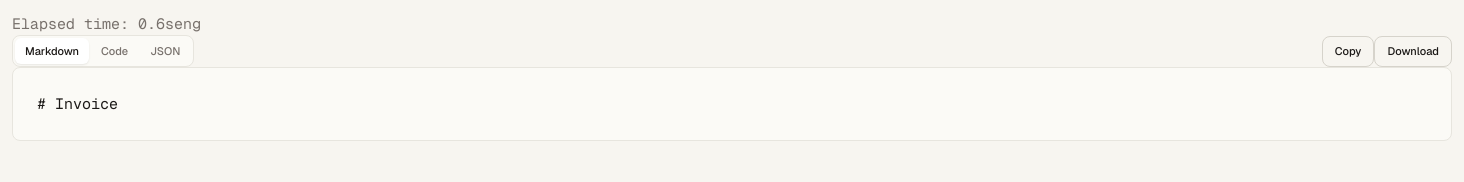
Test: Code wins over the markdown pane in markdown mode
Click the button "Code".
click(115, 51)  # box [91,38,138,64]
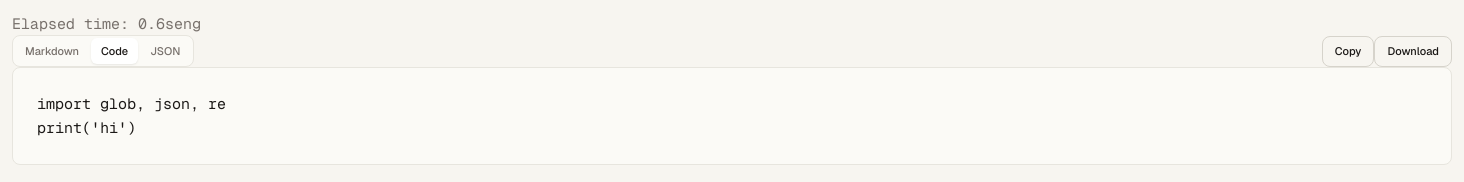
Now the text "# Invoice" is gone
